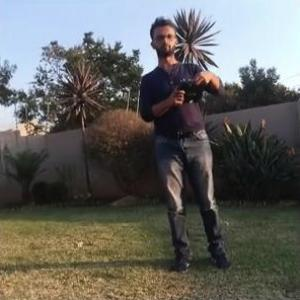follow: (138, 13, 238, 278)
